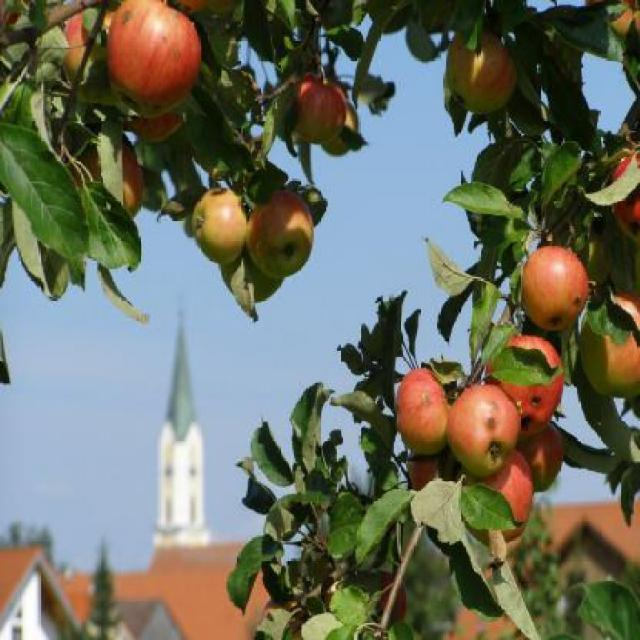Apple pie: (392, 243, 640, 546), (102, 0, 198, 109), (444, 23, 518, 120), (68, 130, 147, 218), (246, 190, 314, 278), (64, 7, 118, 107), (192, 188, 248, 270), (286, 75, 348, 148), (612, 152, 640, 245), (119, 106, 184, 145), (322, 101, 360, 161), (583, 0, 639, 40), (256, 600, 310, 638), (380, 572, 409, 625), (0, 0, 22, 28)
